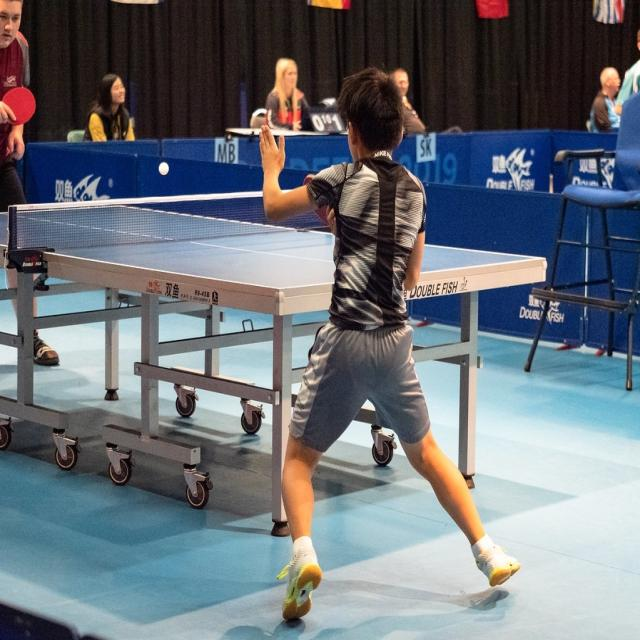TT Net: (0, 185, 306, 257)
TT Racket: (298, 156, 343, 234), (0, 81, 44, 128)
TT Table: (0, 185, 544, 325)
